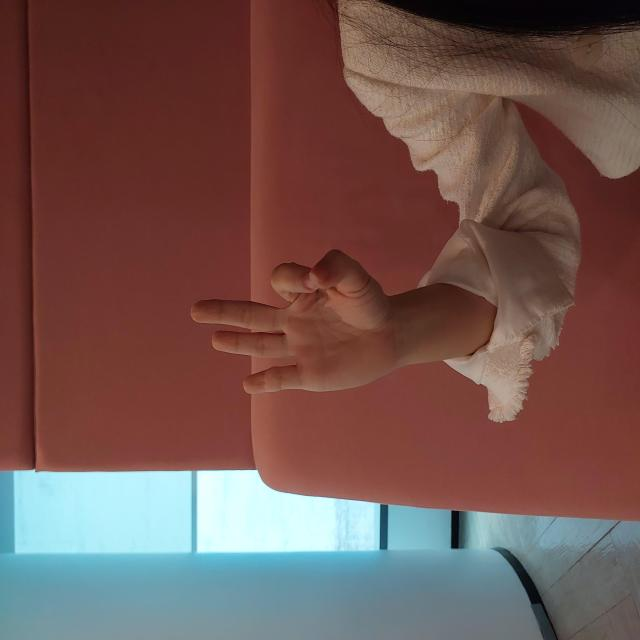F: (248, 189, 392, 387)
